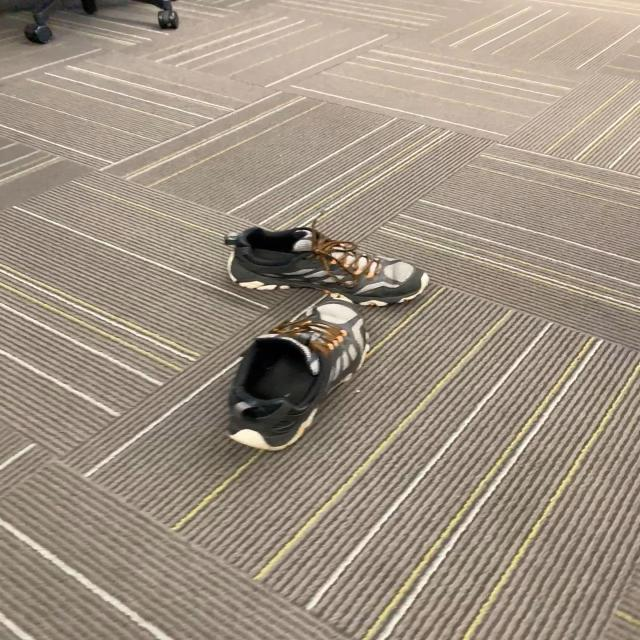shoe: (230, 295, 368, 454), (226, 228, 431, 311)
